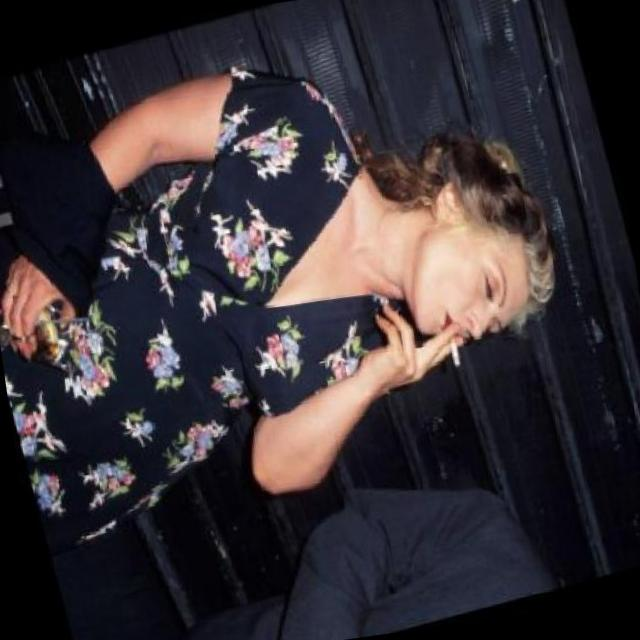cigarette: (445, 328, 466, 369)
